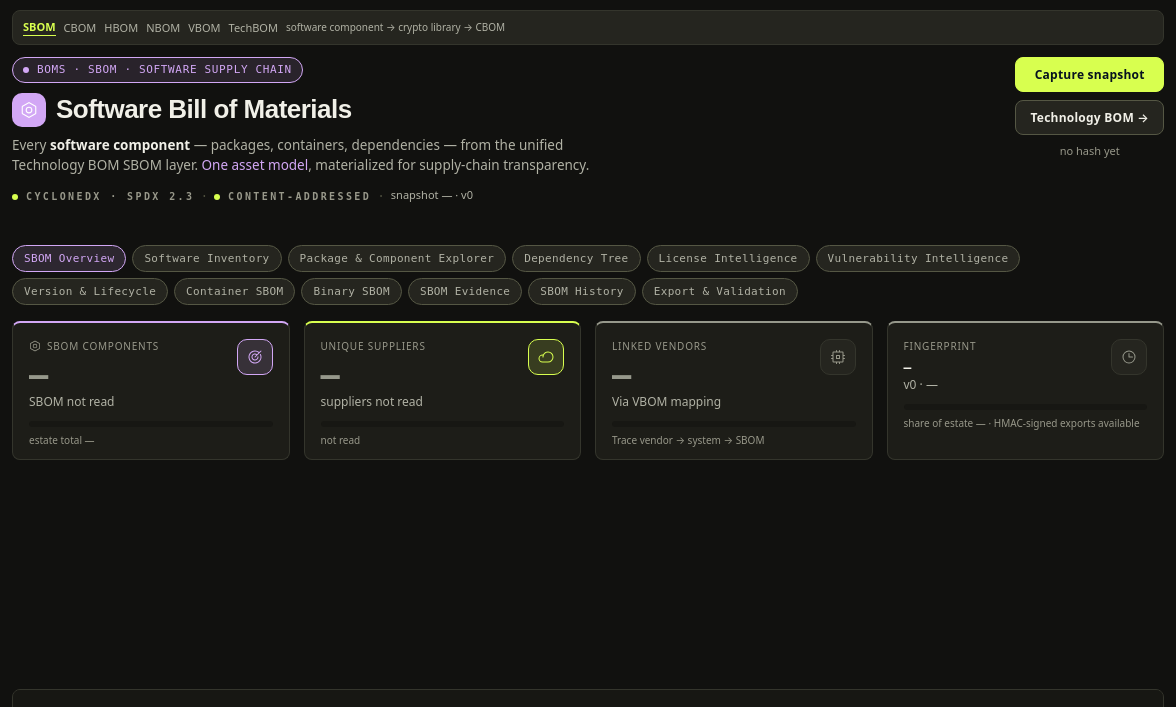
SBOM workspace shell › keeps empty inventories honest — placeholders, never zeros
Click the tab "Dependency Tree": click(576, 258) [512,245,640,272]
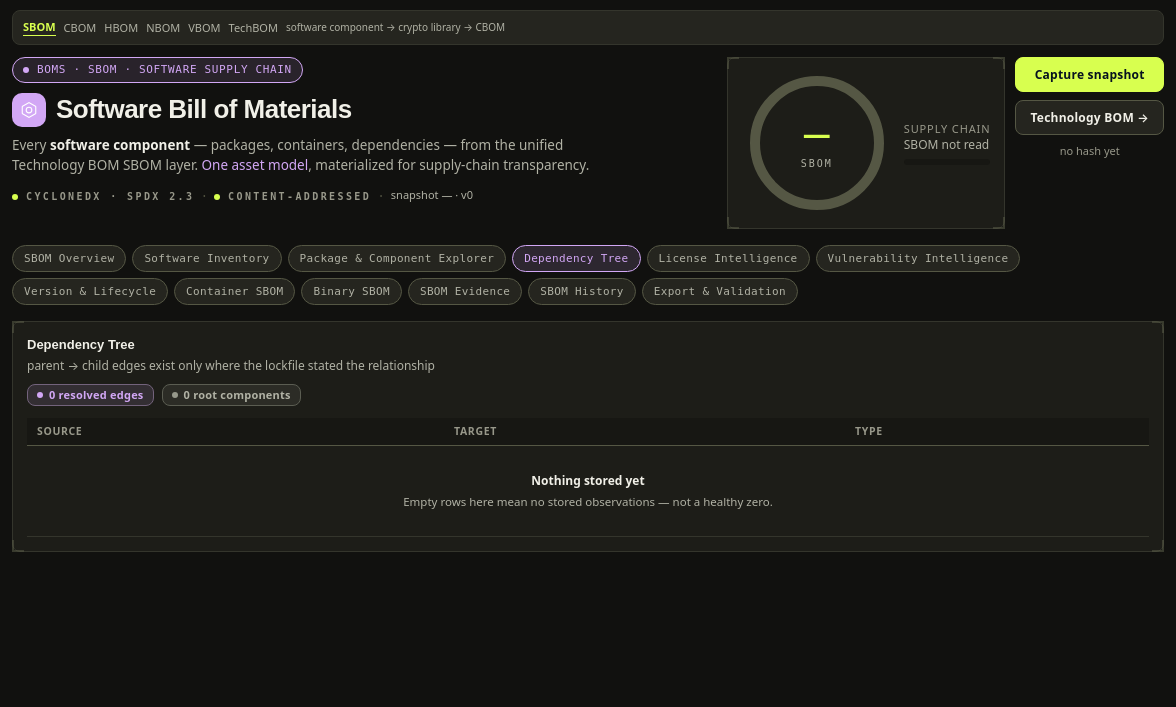
Check: the text "Nothing stored yet" is shown, box [531,472,645,489]
